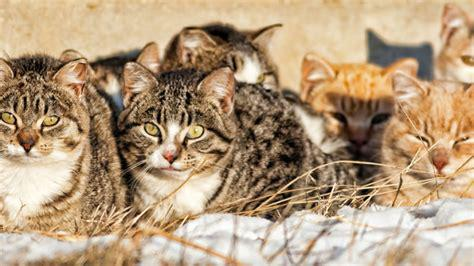cat: (121, 61, 358, 224), (1, 57, 124, 236), (376, 72, 474, 205), (301, 52, 418, 154)
